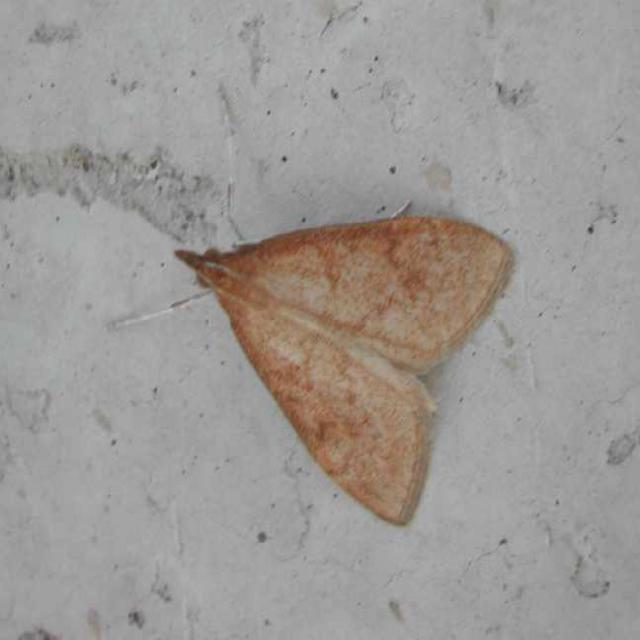cornborer-Adult-: (110, 174, 522, 534)
